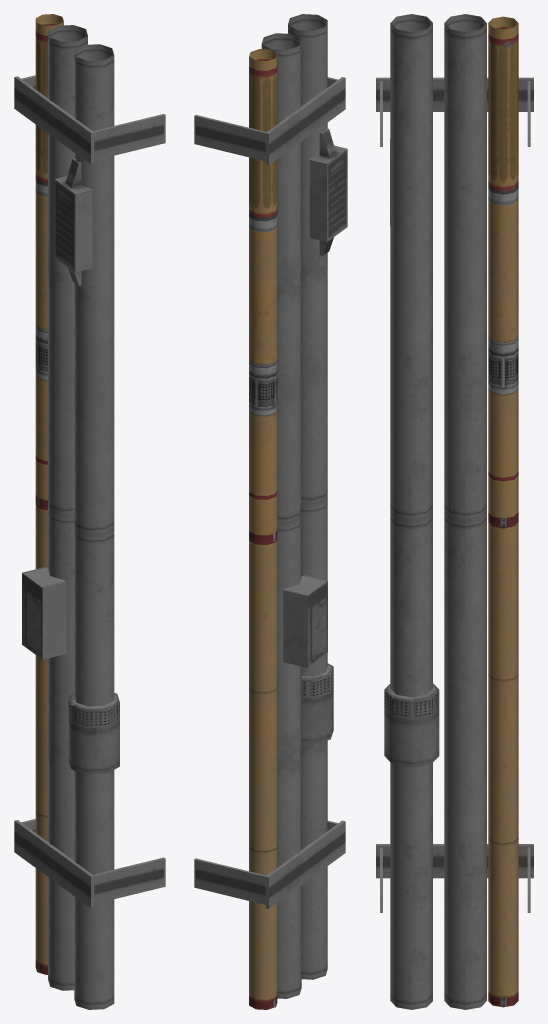
File: CP_Pipe_F_4m_02.fbx
3 renders of one model, left to right at view 1: azimuth 30°, elevation 25°; view 2: azimuth 150°, elevation 25°; view 3: azimuth 270°, elevation 25°, orthographic. The views are drawn at different scales.
Parts seen in each view (by area): view 1: CP_Pipe_F_4m_02; view 2: CP_Pipe_F_4m_02; view 3: CP_Pipe_F_4m_02.
Part boxes in pixels (<box>): CP_Pipe_F_4m_02: <box>14,14,165,1009</box>; CP_Pipe_F_4m_02: <box>194,14,347,1009</box>; CP_Pipe_F_4m_02: <box>376,14,533,1009</box>.
Bounding box in the file's own units: 40.46 × 400 × 58.56.
